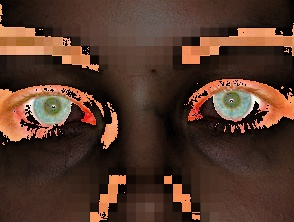SJS-TEN: (0, 135, 95, 222), (31, 0, 294, 31), (196, 145, 294, 222)
